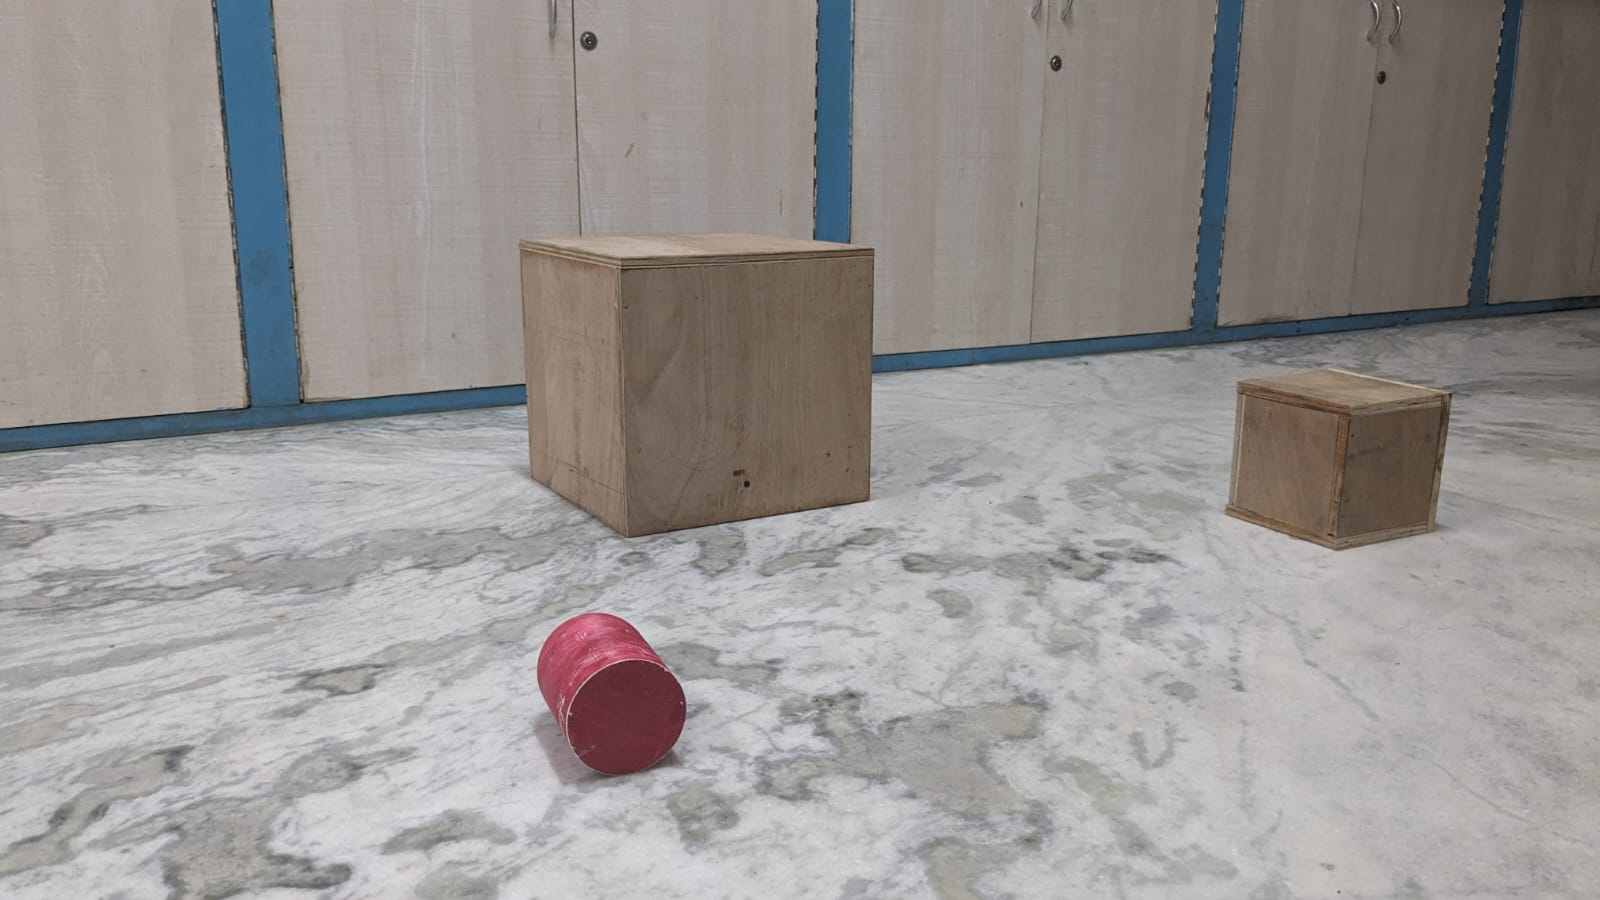150mm obstacle: (1223, 354, 1463, 567)
300mm obstacle: (512, 227, 900, 543)
testtube: (525, 608, 697, 785)
